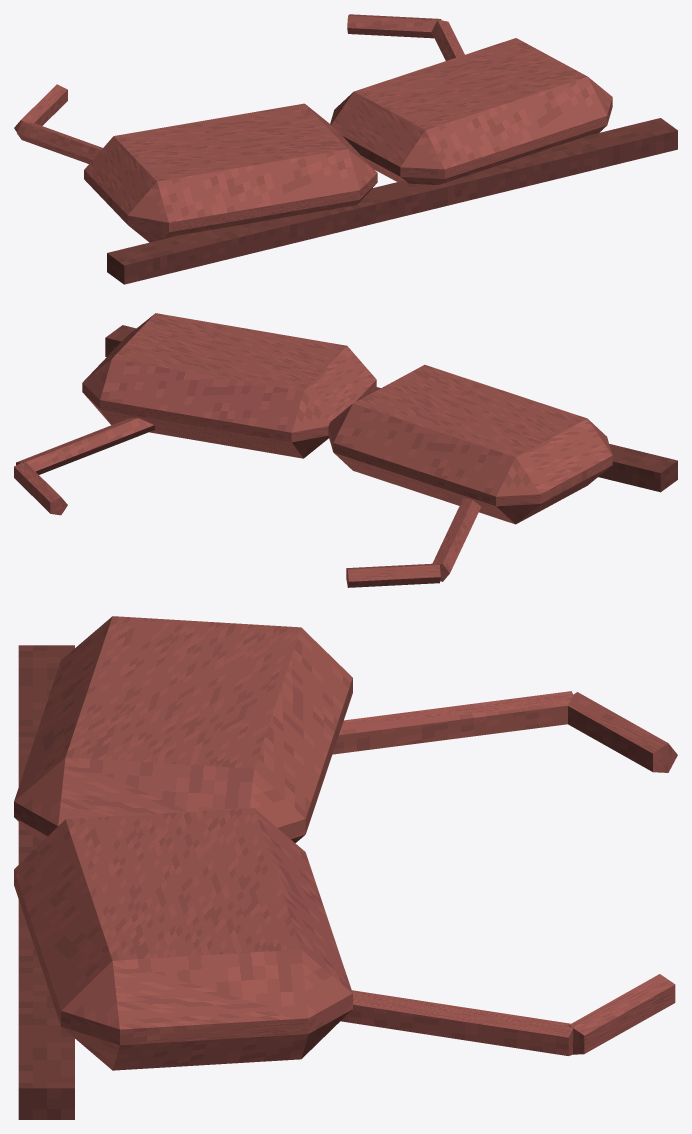
The model's file is bra.glb.
3 renders of one model, top to bottom at view 1: azimuth 30°, elevation 25°; view 2: azimuth 150°, elevation 25°; view 3: azimuth 270°, elevation 25°, orthographic. The views are drawn at different scales.
Visible parts, largest first — view 1: block_shaped cup (×2), block_underband, block_strap 1 (×2), block_strap 0 (×2); view 2: block_shaped cup (×2), block_strap 0 (×2), block_strap 1 (×2), block_underband; view 3: block_shaped cup (×2), block_strap 0 (×2), block_underband, block_strap 1 (×2).
Boxes of the visible parts, x1=… form: block_shaped cup (×2): x1=84, y1=38, x2=612, y2=242; block_underband: x1=107, y1=118, x2=677, y2=284; block_strap 1 (×2): x1=14, y1=14, x2=441, y2=131; block_strap 0 (×2): x1=17, y1=19, x2=464, y2=163; block_shaped cup (×2): x1=82, y1=313, x2=612, y2=524; block_strap 0 (×2): x1=16, y1=418, x2=481, y2=581; block_strap 1 (×2): x1=14, y1=461, x2=440, y2=587; block_underband: x1=105, y1=325, x2=677, y2=492; block_shaped cup (×2): x1=14, y1=616, x2=352, y2=1070; block_strap 0 (×2): x1=332, y1=691, x2=574, y2=1055; block_underband: x1=18, y1=645, x2=74, y2=1119; block_strap 1 (×2): x1=568, y1=692, x2=677, y2=1054.
Size of the model in its own units: 0.242 by 0.028 by 0.1533.
Materials: 1 (1 with a texture image).
